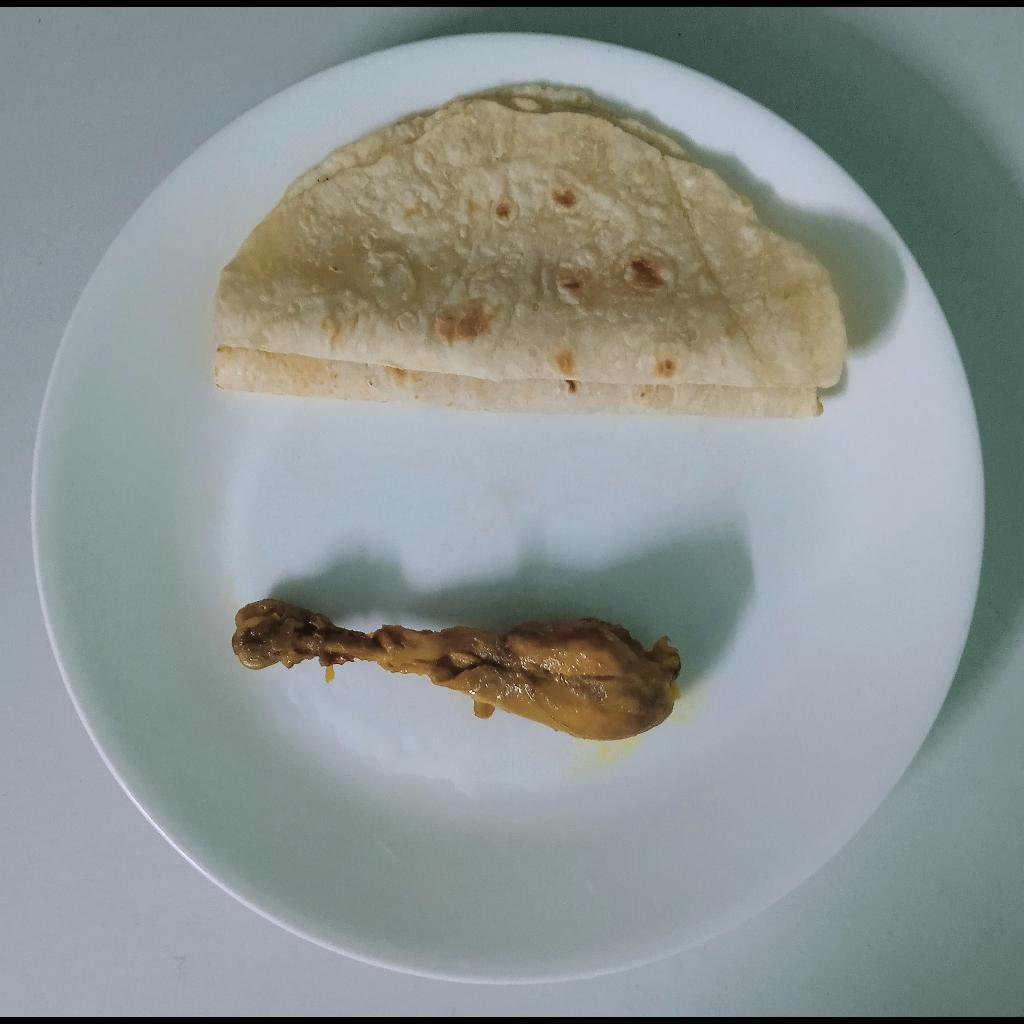chicken: (230, 596, 681, 742)
ruti: (208, 87, 850, 418)
